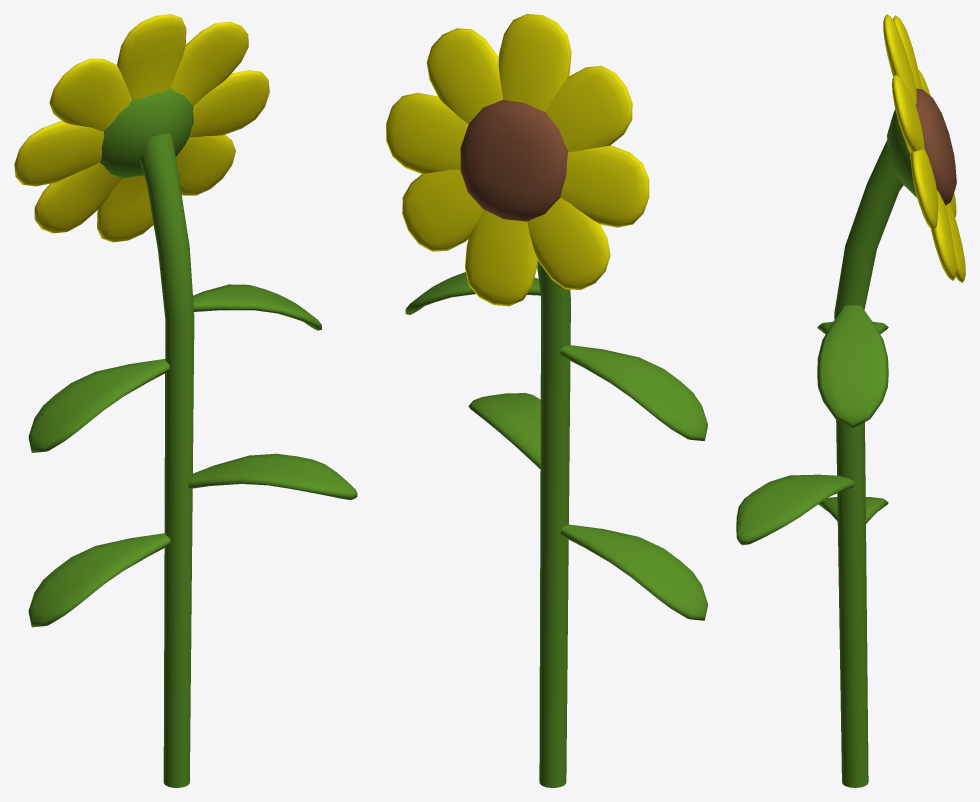
File: prop36.fbx
3 views of the same model, side by side, from view 1: azimuth 30°, elevation 25°; view 2: azimuth 150°, elevation 25°; view 3: azimuth 270°, elevation 25° (orthographic). The views are drawn at different scales.
Visible parts, largest first — view 1: Cylinder.025; view 2: Cylinder.025; view 3: Cylinder.025.
Part boxes in pixels (x1,y1,x2,y2): Cylinder.025: (14,14,357,787); Cylinder.025: (386,14,707,787); Cylinder.025: (736,14,965,787).
Bounding box in the file's own units: 0.6542 × 0.4488 × 1.64.
